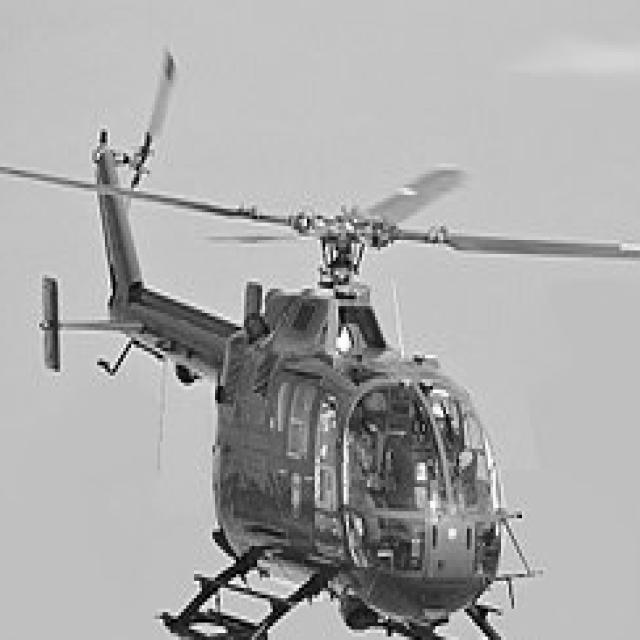helicopter: (1, 49, 640, 640)
